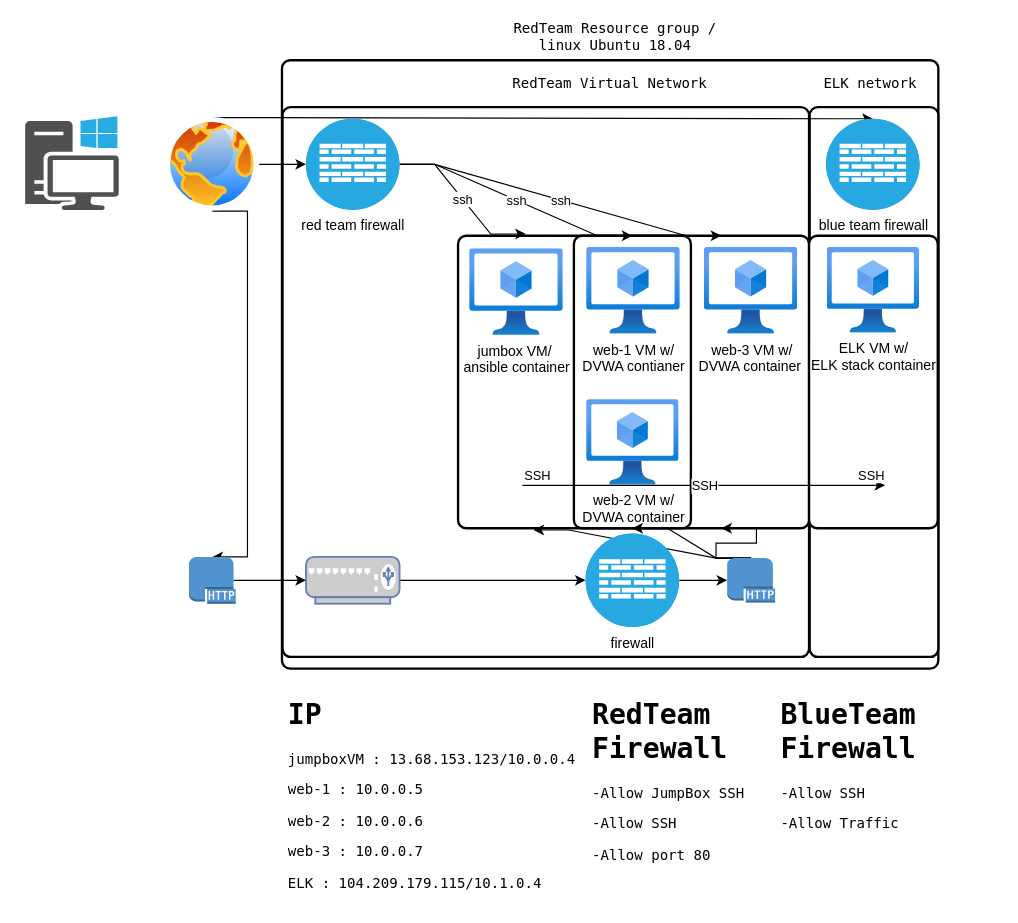
This 1018x923 diagram has some shape labels left out. Each missing label, with the centre of its shape:
internet: point (212, 164)
load balancer: point (352, 579)
local workstation: point (71, 162)
